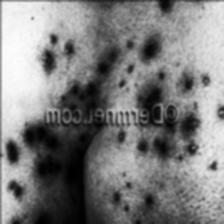Toxin: (35, 157, 56, 176), (107, 190, 118, 204)
